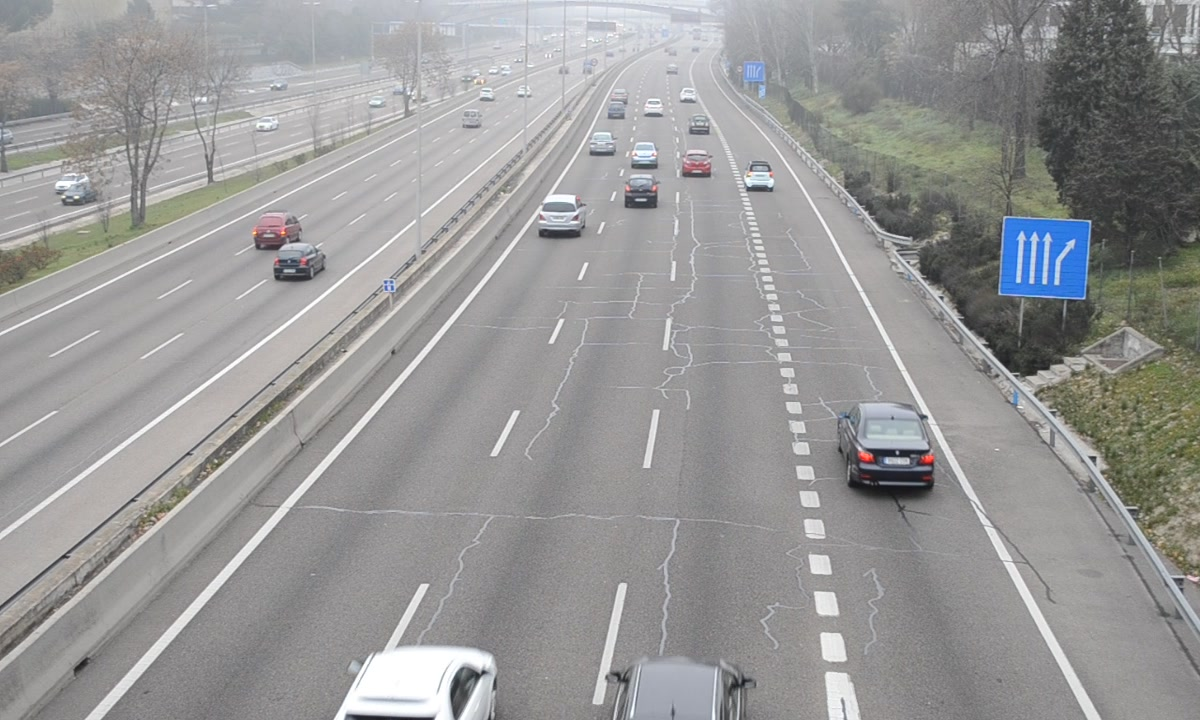car: (330, 645, 499, 718), (605, 656, 759, 718), (834, 402, 940, 492), (537, 193, 587, 234), (621, 174, 659, 211), (743, 159, 776, 193), (681, 149, 713, 180), (586, 131, 617, 157), (630, 141, 658, 169), (688, 114, 711, 136)
